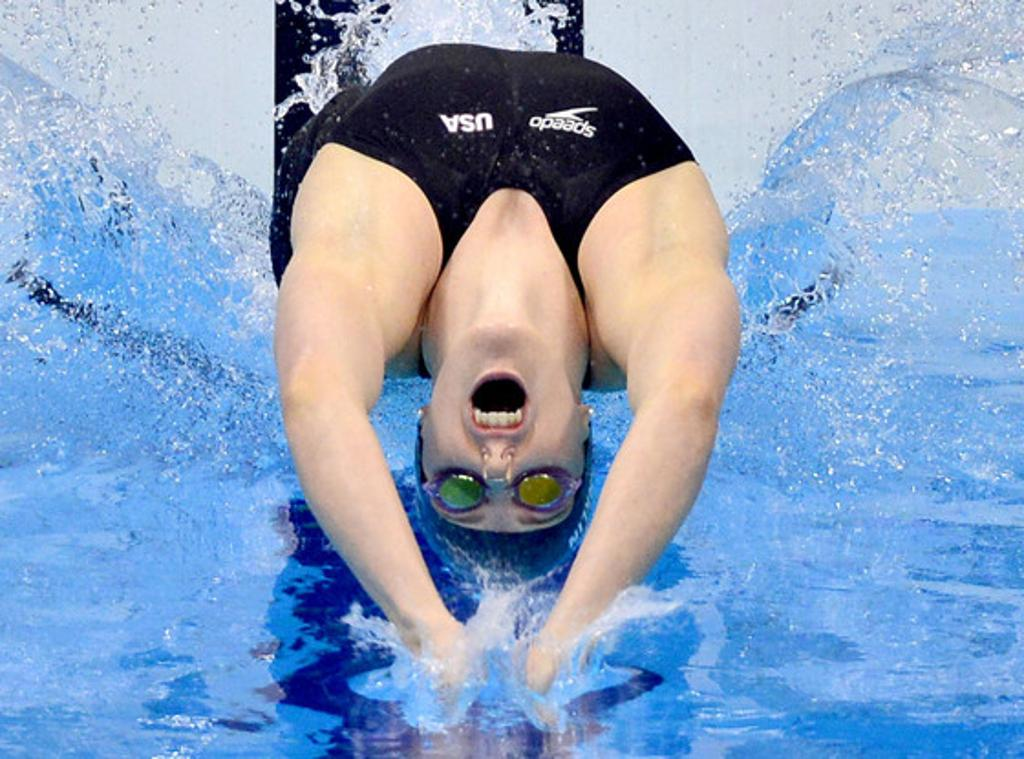face: (424, 320, 588, 558)
